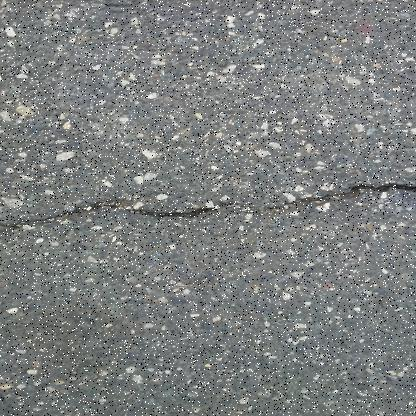Cracks: (0, 176, 416, 235)
